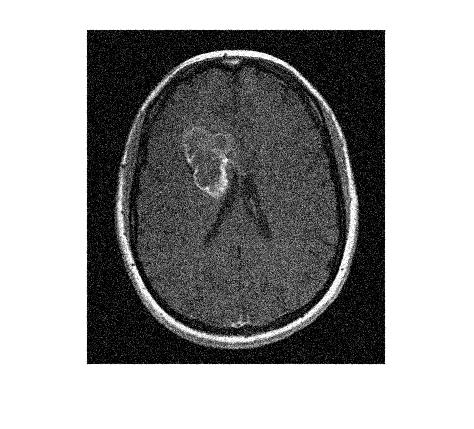Brain_Cancer: (178, 120, 244, 202)
